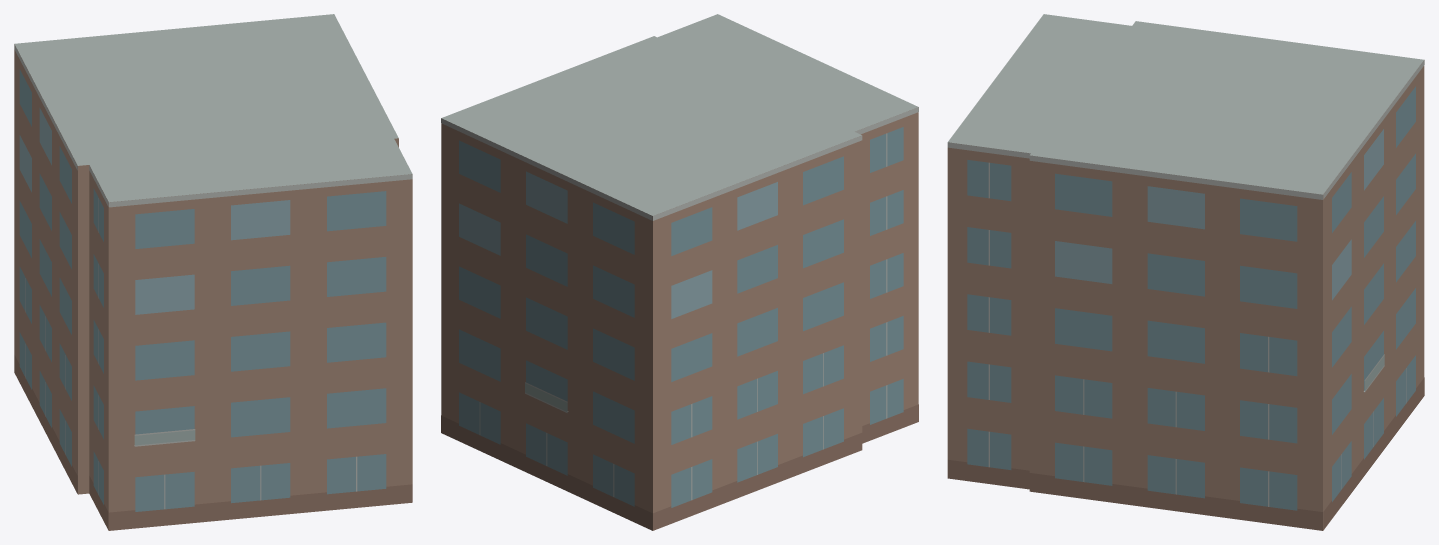
The model's file is survey-upis-32598772.glb.
3 views of the same model, side by side, from view 1: azimuth 30°, elevation 25°; view 2: azimuth 150°, elevation 25°; view 3: azimuth 270°, elevation 25° (orthographic). The views are drawn at different scales.
Parts seen in each view (by area): view 1: survey-upis-32598772.tmp; view 2: survey-upis-32598772.tmp; view 3: survey-upis-32598772.tmp.
Part boxes in pixels (box(x1,y1,x2,y2)): survey-upis-32598772.tmp: box(14, 14, 412, 530); survey-upis-32598772.tmp: box(441, 14, 918, 530); survey-upis-32598772.tmp: box(947, 14, 1424, 530).
Size of the model in its own units: 17.65 by 15.3 by 19.68.
